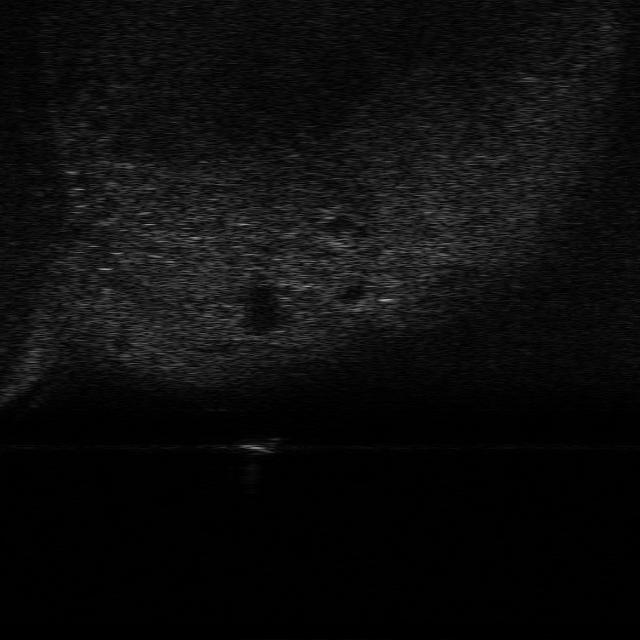cube: (236, 434, 284, 455)
